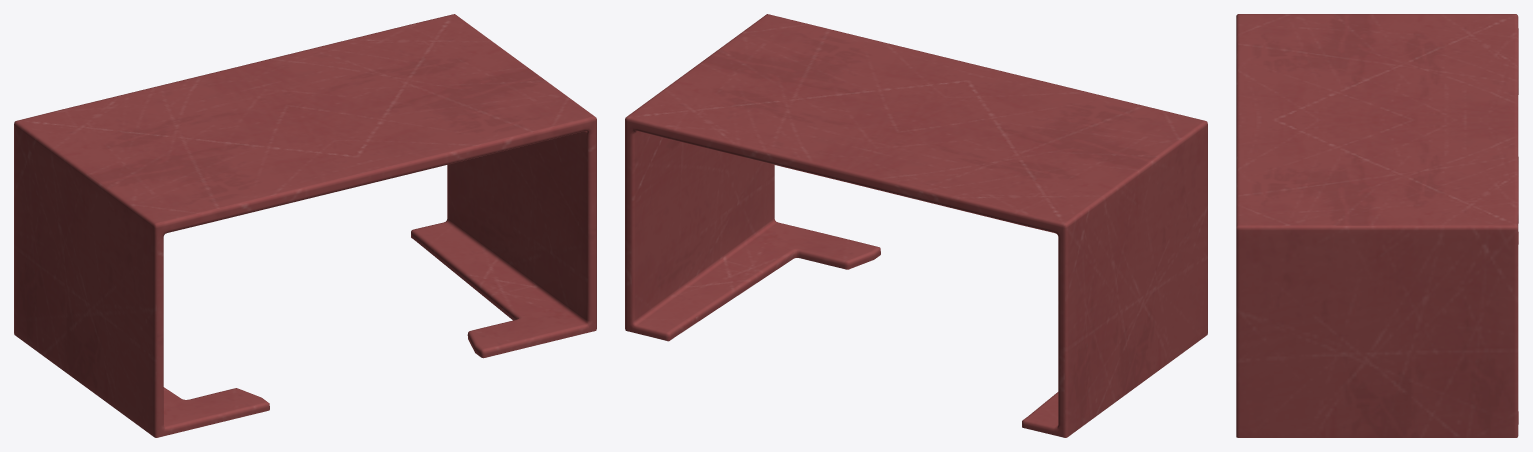
Rendered from desk.fbx.
3 renders of one model, left to right at view 1: azimuth 30°, elevation 25°; view 2: azimuth 150°, elevation 25°; view 3: azimuth 270°, elevation 25°, orthographic.
Parts seen in each view (by area): view 1: Cube.003; view 2: Cube.003; view 3: Cube.003.
Boxes of the visible parts, bbox=[...] form: Cube.003: bbox=[14, 14, 596, 437]; Cube.003: bbox=[625, 14, 1207, 437]; Cube.003: bbox=[1236, 14, 1518, 437].
Size of the model in its own units: 221 by 102 by 123.
